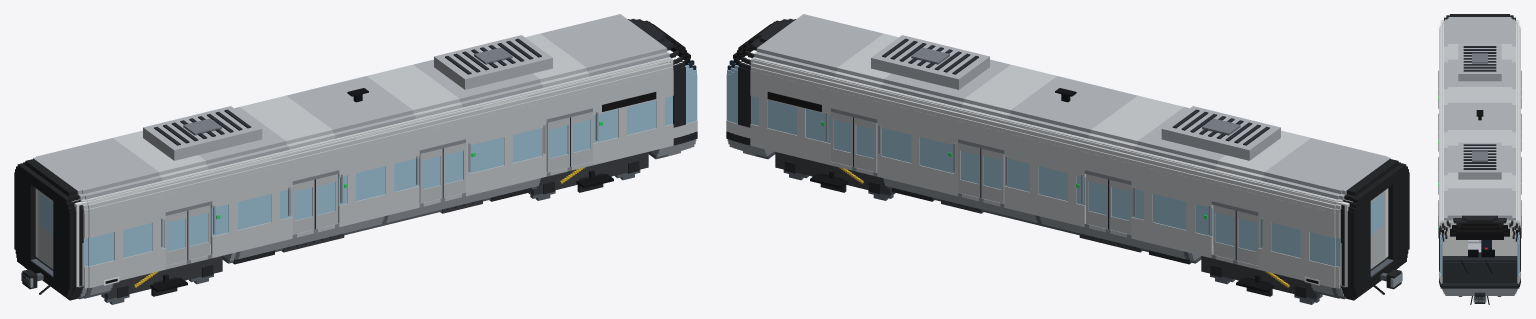
Rendered from r160_front.obj.
3 renders of one model, left to right at view 1: azimuth 30°, elevation 25°; view 2: azimuth 150°, elevation 25°; view 3: azimuth 270°, elevation 25°, orthographic. The views are drawn at different scales.
Visible parts, largest first — view 1: SHELL, SHELL_roof, SHELL_diaphragm, SHELL_ceiling, BOGEY_REAR, BOGEY_FRONT, FRAME, EXTERNAL_DOOR_15_CG_DR3_TOGGLE_TL_-0.61_X, EXTERNAL_DOOR_21_CG_DR4_TOGGLE_TL_-0.61_X, EXTERNAL_DOOR_3_CG_DR1_TOGGLE_TL_-0.61_X, EXTERNAL_DOOR_9_CG_DR2_TOGGLE_TL_-0.61_X, EXTERNAL_DOOR_4_CG_DR1_TOGGLE_TL_0.61_X (+7 smaller); view 2: SHELL, SHELL_roof, SHELL_diaphragm, SHELL_ceiling, BOGEY_REAR, BOGEY_FRONT, FRAME, EXTERNAL_DOOR_18_CG_DL3_TOGGLE_TL_-0.61_X, EXTERNAL_DOOR_24_CG_DL4_TOGGLE_TL_-0.61_X, EXTERNAL_DOOR_6_CG_DL1_TOGGLE_TL_-0.61_X, EXTERNAL_DOOR_12_CG_DL2_TOGGLE_TL_-0.61_X, EXTERNAL_DOOR_7_CG_DL1_TOGGLE_TL_0.61_X (+7 smaller); view 3: SHELL, SHELL_roof, SHELL_desk, SHELL_ceiling, SHELL_cabwall, SHELL_destbox, SHELL_handle, FRAME, SHELL_cabseat.
Boxes of the visible parts, left/top/right/bottom form: SHELL: left=23, top=14, right=697, bottom=300; SHELL_roof: left=143, top=35, right=552, bottom=160; SHELL_diaphragm: left=14, top=163, right=74, bottom=297; SHELL_ceiling: left=22, top=57, right=670, bottom=205; BOGEY_REAR: left=104, top=256, right=222, bottom=299; BOGEY_FRONT: left=530, top=152, right=648, bottom=195; FRAME: left=21, top=187, right=531, bottom=294; EXTERNAL_DOOR_15_CG_DR3_TOGGLE_TL_-0.61_X: left=419, top=148, right=443, bottom=203; EXTERNAL_DOOR_21_CG_DR4_TOGGLE_TL_-0.61_X: left=546, top=117, right=570, bottom=172; EXTERNAL_DOOR_3_CG_DR1_TOGGLE_TL_-0.61_X: left=164, top=210, right=188, bottom=265; EXTERNAL_DOOR_9_CG_DR2_TOGGLE_TL_-0.61_X: left=292, top=179, right=315, bottom=234; EXTERNAL_DOOR_4_CG_DR1_TOGGLE_TL_0.61_X: left=188, top=205, right=210, bottom=260; SHELL: left=726, top=14, right=1400, bottom=300; SHELL_roof: left=871, top=35, right=1280, bottom=160; SHELL_diaphragm: left=1349, top=163, right=1409, bottom=297; SHELL_ceiling: left=753, top=57, right=1401, bottom=205; BOGEY_REAR: left=1201, top=256, right=1319, bottom=299; BOGEY_FRONT: left=775, top=152, right=893, bottom=195; FRAME: left=892, top=187, right=1402, bottom=294; EXTERNAL_DOOR_18_CG_DL3_TOGGLE_TL_-0.61_X: left=980, top=148, right=1004, bottom=203; EXTERNAL_DOOR_24_CG_DL4_TOGGLE_TL_-0.61_X: left=853, top=117, right=877, bottom=172; EXTERNAL_DOOR_6_CG_DL1_TOGGLE_TL_-0.61_X: left=1235, top=210, right=1259, bottom=265; EXTERNAL_DOOR_12_CG_DL2_TOGGLE_TL_-0.61_X: left=1108, top=179, right=1131, bottom=234; EXTERNAL_DOOR_7_CG_DL1_TOGGLE_TL_0.61_X: left=1213, top=205, right=1235, bottom=260; SHELL: left=1439, top=14, right=1520, bottom=295; SHELL_roof: left=1458, top=44, right=1501, bottom=179; SHELL_desk: left=1442, top=249, right=1517, bottom=282; SHELL_ceiling: left=1440, top=20, right=1519, bottom=220; SHELL_cabwall: left=1440, top=220, right=1519, bottom=255; SHELL_destbox: left=1456, top=232, right=1503, bottom=239; SHELL_handle: left=1438, top=70, right=1521, bottom=237; FRAME: left=1470, top=290, right=1489, bottom=304; SHELL_cabseat: left=1481, top=240, right=1491, bottom=249.
Bounding box in the file's own units: 19.64 × 4.01 × 3.08.
1 material, 1 textured.
